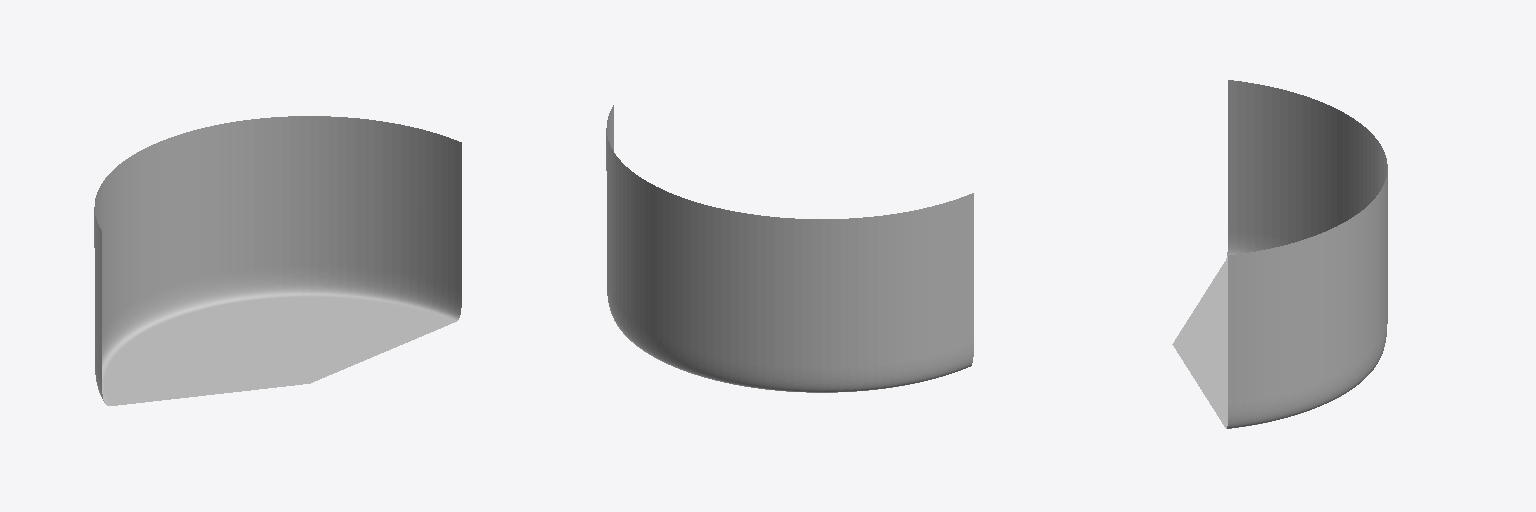
Rendered from infinite_ground.obj.
3 views of the same model, side by side, from view 1: azimuth 30°, elevation 25°; view 2: azimuth 150°, elevation 25°; view 3: azimuth 270°, elevation 25° (orthographic).
Visible parts, largest first — view 1: inf_ground_Mesh.001; view 2: inf_ground_Mesh.001; view 3: inf_ground_Mesh.001.
Boxes of the visible parts, x1=… form: inf_ground_Mesh.001: x1=94, y1=116, x2=461, y2=405; inf_ground_Mesh.001: x1=606, y1=105, x2=973, y2=392; inf_ground_Mesh.001: x1=1172, y1=80, x2=1387, y2=428.
Bounding box in the file's own units: 205 × 96 × 106.